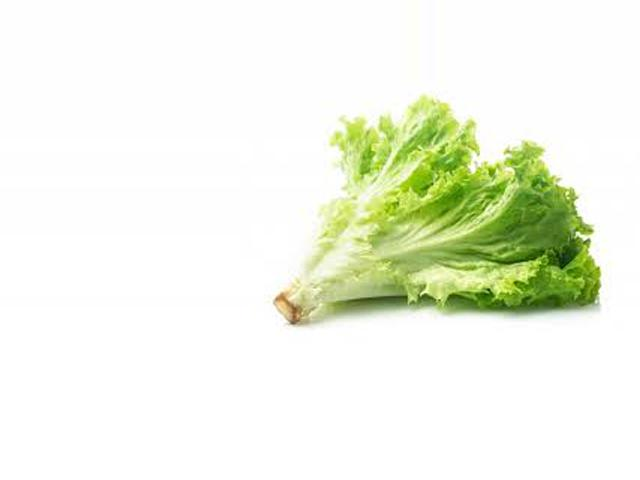lettuce: (265, 94, 598, 329)
